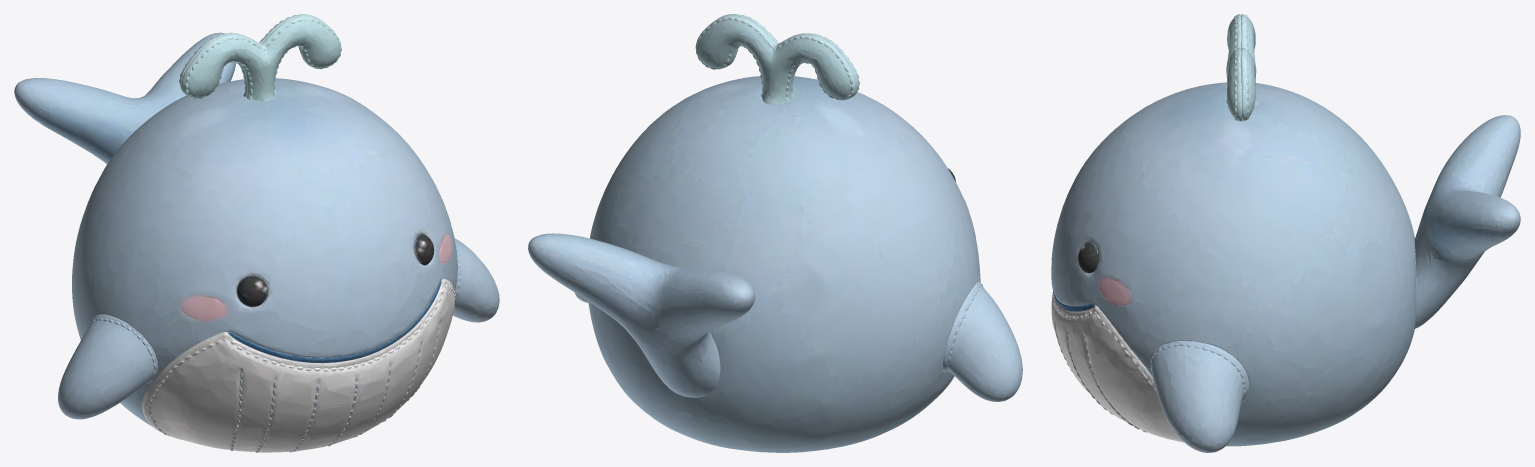
Rendered from whale.gen.glb.
3 views of the same model, side by side, from view 1: azimuth 30°, elevation 25°; view 2: azimuth 150°, elevation 25°; view 3: azimuth 270°, elevation 25° (orthographic). The views are drawn at different scales.
Parts seen in each view (by area): view 1: LOD0; view 2: LOD0; view 3: LOD0.
Boxes of the visible parts, x1,y1,x2,y2 form: LOD0: (14,14,499,452); LOD0: (528,14,1022,452); LOD0: (1051,14,1520,452).
Size of what is drawn, in the model's own units: 0.2153 by 0.1797 by 0.2073.
Materials: 1 (1 with a texture image).
